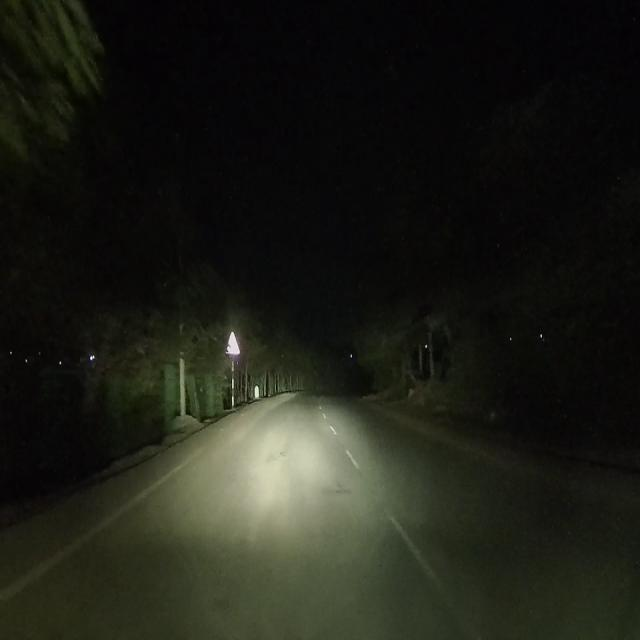right-hand-curve: (223, 328, 240, 358)
